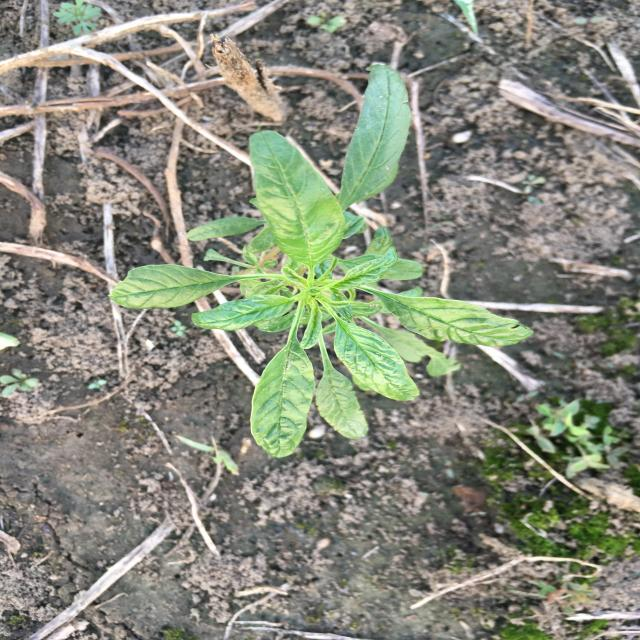Ragweed: (50, 0, 106, 36)
Waterhemp: (104, 62, 537, 462)
